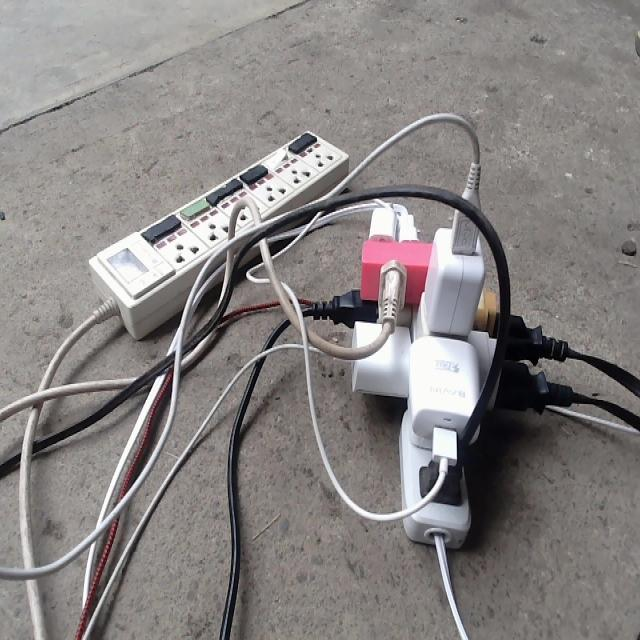-: (339, 165, 538, 548)
